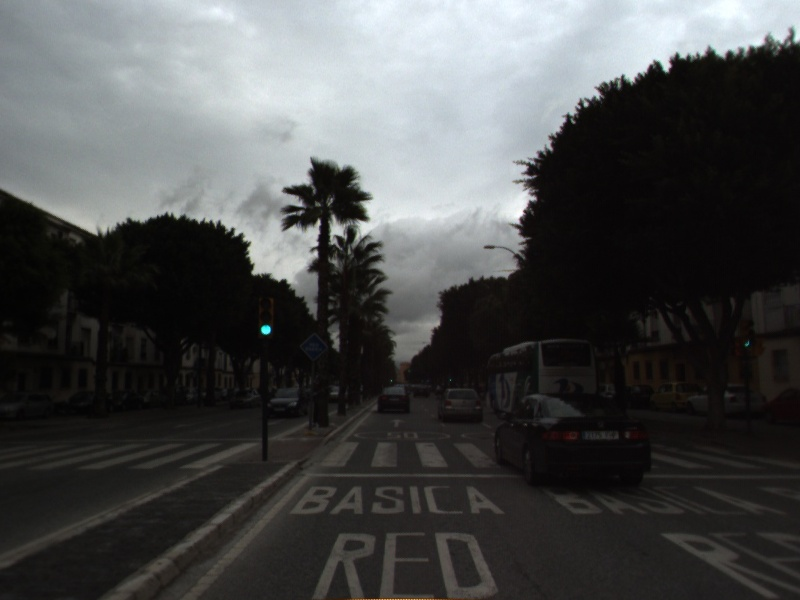STRAIGHT: (387, 417, 408, 429)
